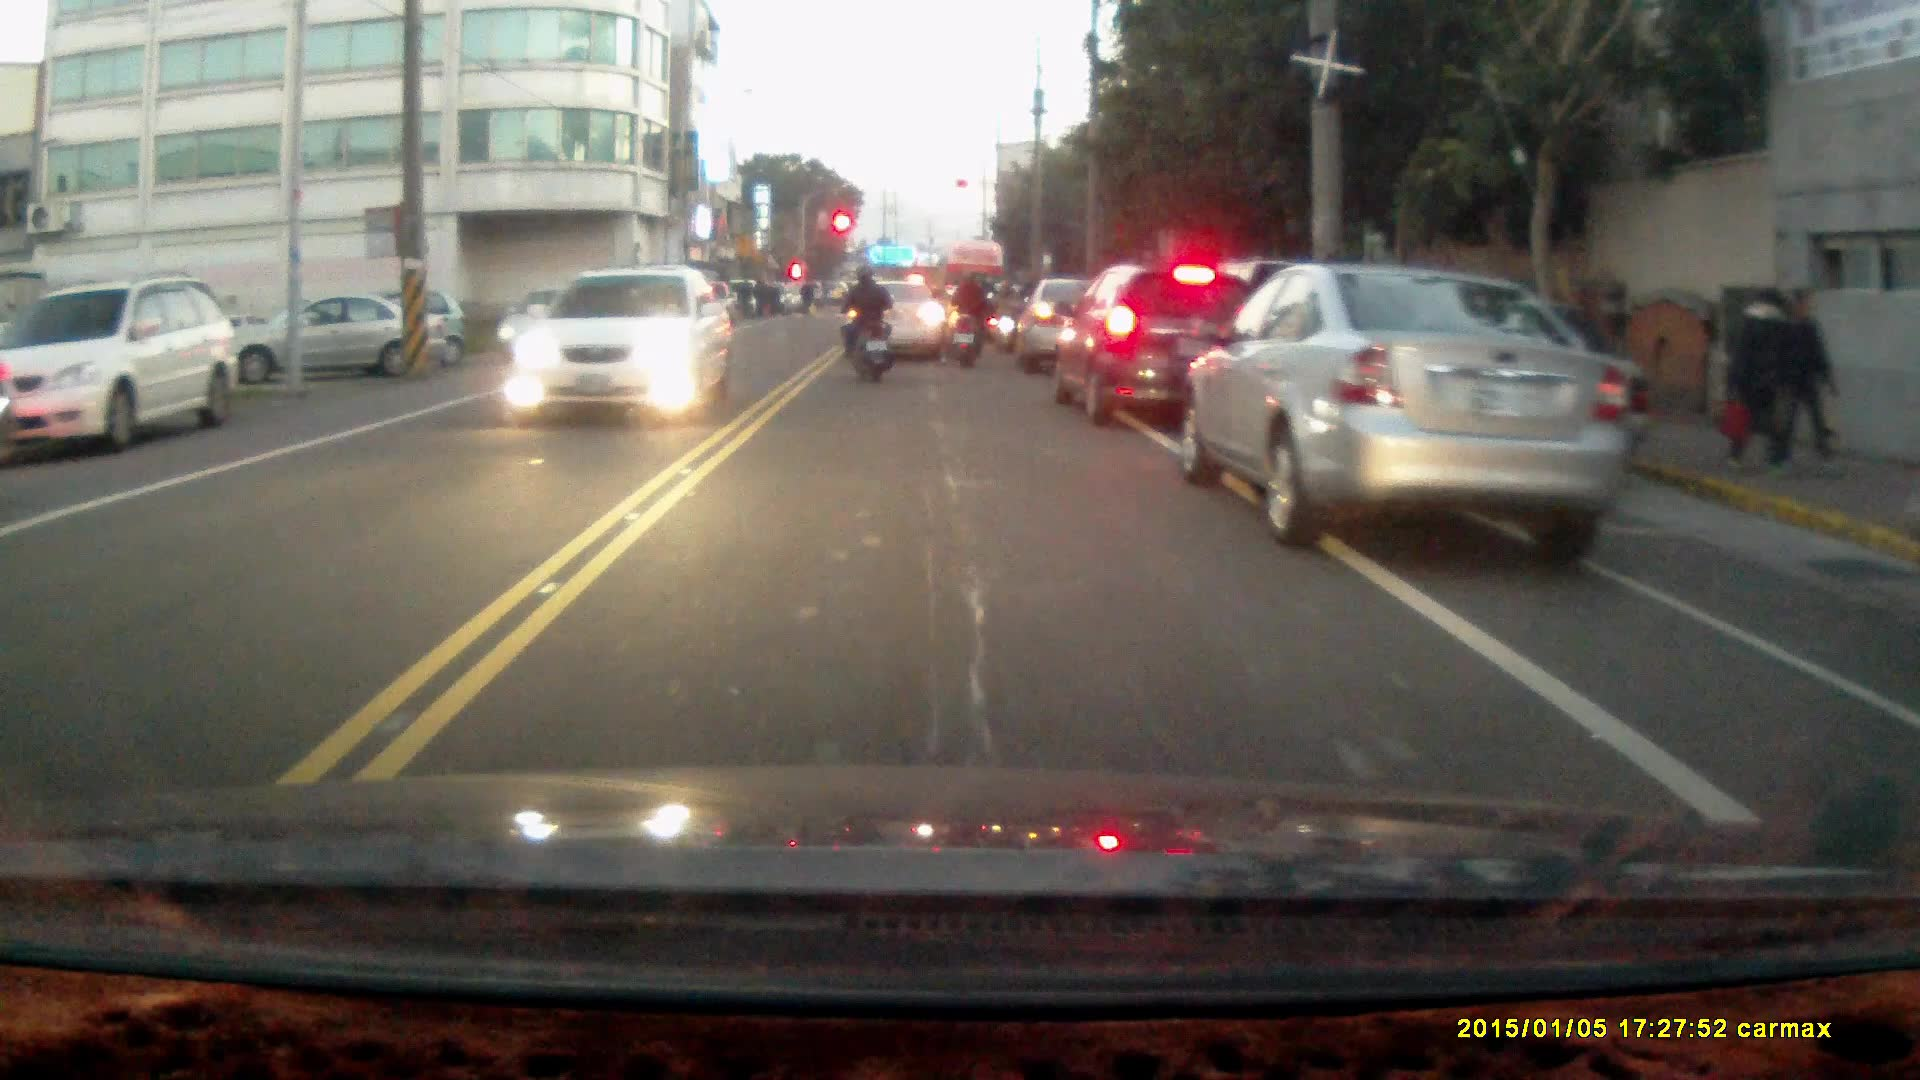pedestrian: (1729, 283, 1789, 478), (1782, 293, 1838, 477)
rider: (838, 267, 893, 386), (945, 270, 995, 368)
vehicle: (1176, 264, 1640, 571), (6, 276, 242, 460), (508, 268, 731, 426), (1053, 272, 1262, 436), (233, 296, 446, 381), (1012, 275, 1130, 381), (845, 289, 954, 371)
